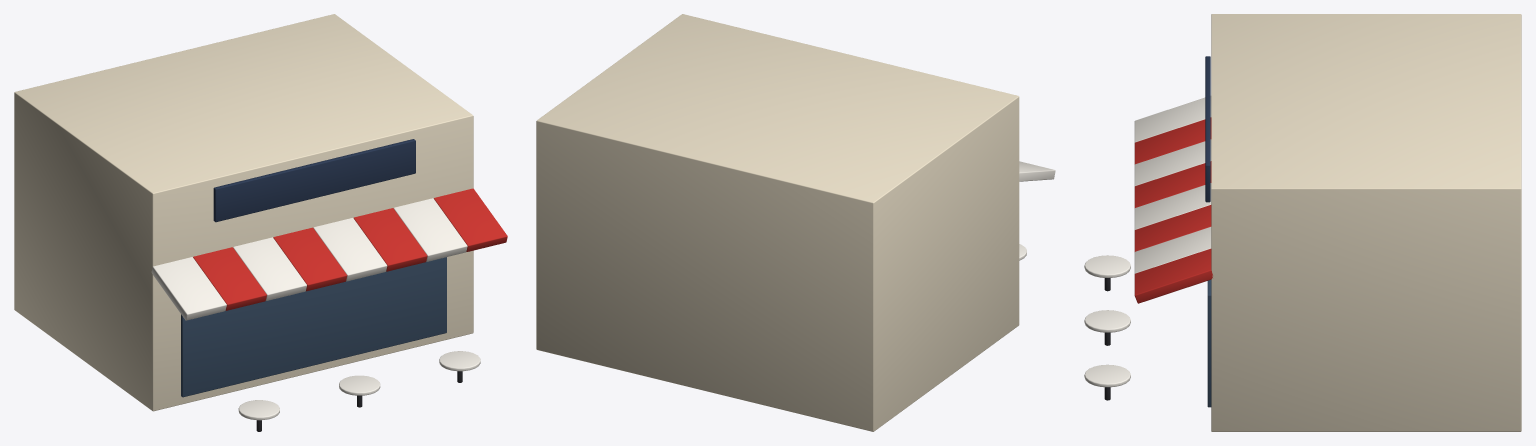
Rendered from rg_franca_2.glb.
3 views of the same model, side by side, from view 1: azimuth 30°, elevation 25°; view 2: azimuth 150°, elevation 25°; view 3: azimuth 270°, elevation 25° (orthographic). The views are drawn at different scales.
Parts seen in each view (by area): view 1: rg_franca_2; view 2: rg_franca_2; view 3: rg_franca_2.
Part boxes in pixels (x1,y1,x2,y2): rg_franca_2: (14,14,507,431); rg_franca_2: (536,14,1055,431); rg_franca_2: (1084,14,1521,431).
Bounding box in the file's own units: 8 × 5.2 × 8.45.
